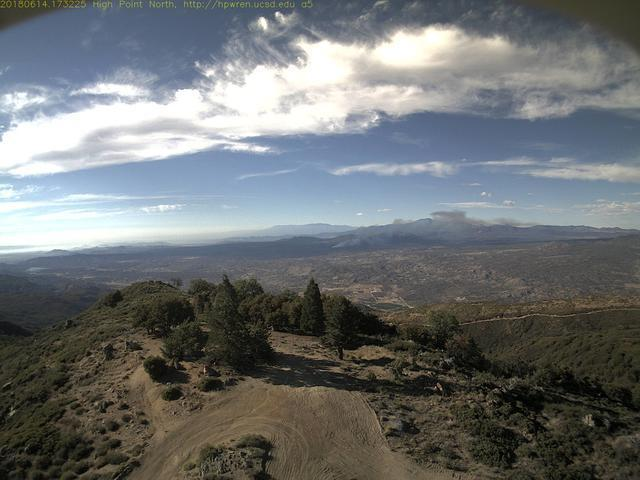Smoke: (324, 204, 530, 253)
